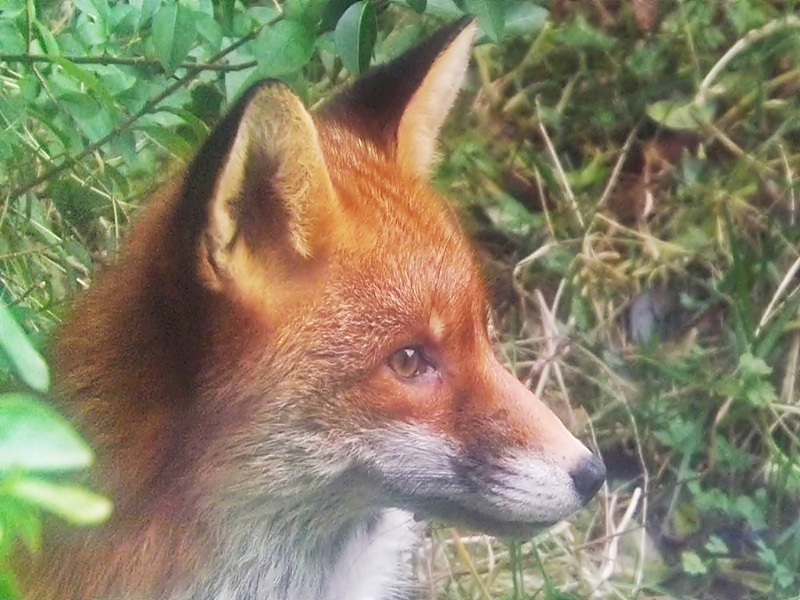fox: (4, 14, 610, 599)
